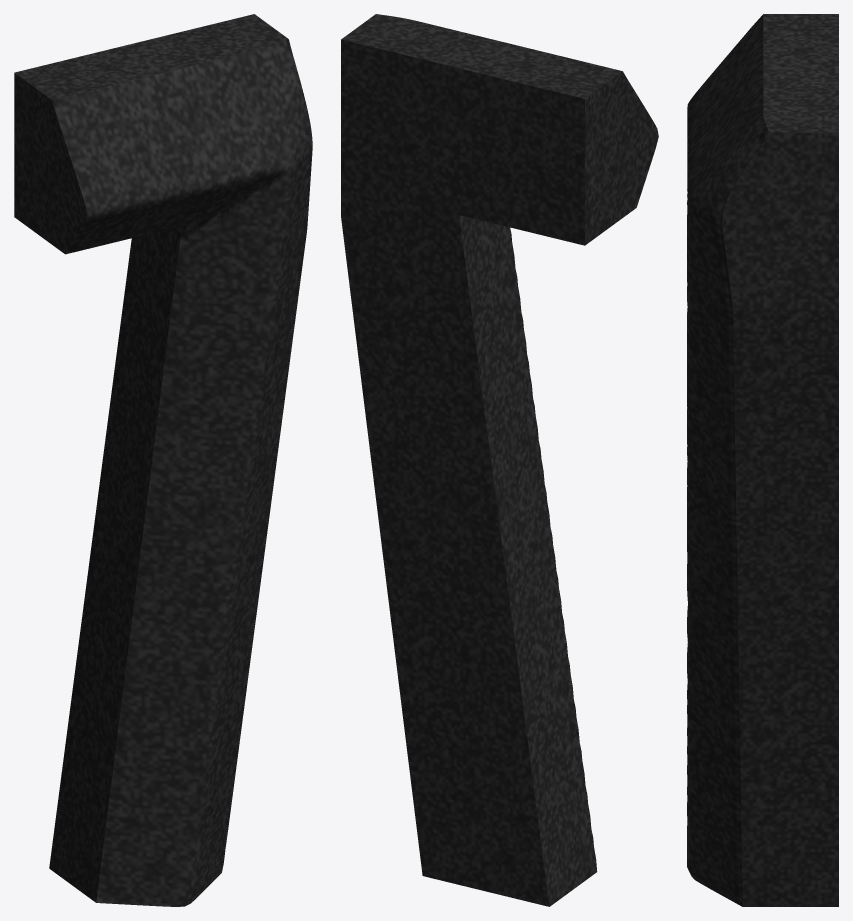
File: digit-7.glb
3 renders of one model, left to right at view 1: azimuth 30°, elevation 25°; view 2: azimuth 150°, elevation 25°; view 3: azimuth 270°, elevation 25°, orthographic.
Parts seen in each view (by area): view 1: Glyph 7; view 2: Glyph 7; view 3: Glyph 7.
Boxes of the visible parts, x1,y1,x2,y2 form: Glyph 7: (14,14,312,906); Glyph 7: (341,14,658,906); Glyph 7: (687,14,838,906).
Bounding box in the file's own units: 1.16 × 3.71 × 0.628.
1 material, 1 textured.
